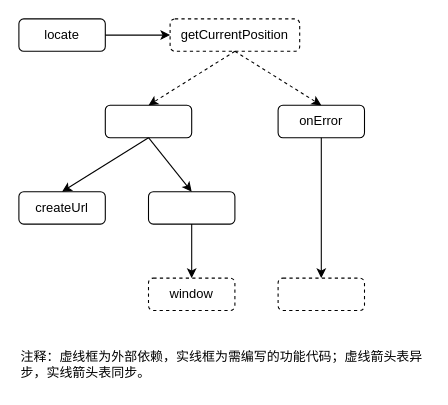
The diagram is 448 pixels wide and 405 high, and some of its shapes have lost their labels. Each missing label, with the centre of its shape:
document: point 320,293
onSuccess: point 148,121
setLocation: point 191,207
